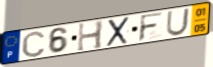6: (47, 26, 71, 55)
C: (21, 29, 47, 58)
F: (138, 11, 165, 43)
H: (76, 19, 105, 53)
U: (165, 7, 191, 37)
X: (105, 16, 131, 48)
